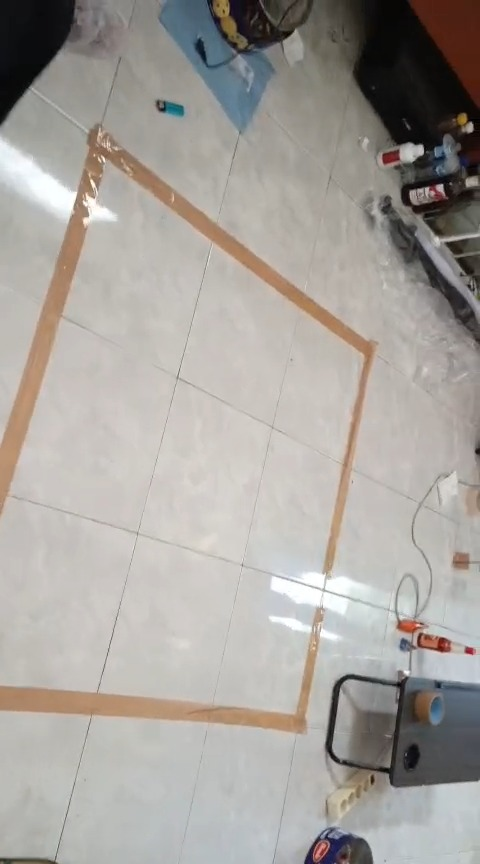floor marking: (0, 126, 374, 575), (0, 609, 321, 732)
